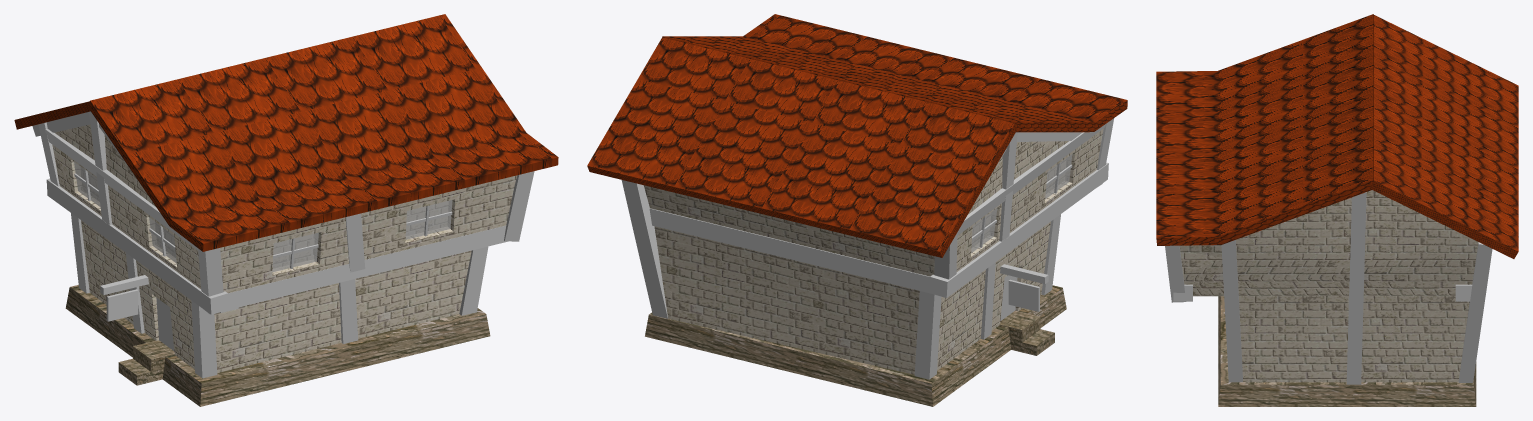
File: StoneMerchant.FBX
3 views of the same model, side by side, from view 1: azimuth 30°, elevation 25°; view 2: azimuth 150°, elevation 25°; view 3: azimuth 270°, elevation 25° (orthographic). The views are drawn at different scales.
Visible parts, largest first — view 1: MainBuilding; view 2: MainBuilding; view 3: MainBuilding.
Part boxes in pixels (x1,y1,x2,y2): MainBuilding: (14,14,558,406); MainBuilding: (587,14,1127,406); MainBuilding: (1156,14,1518,406).
Bounding box in the file's own units: 591 × 393 × 530.
